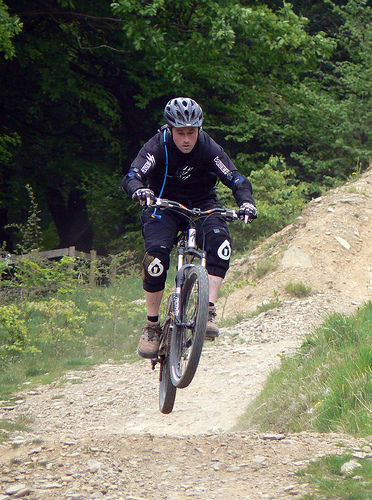helmet: (159, 101, 202, 123)
